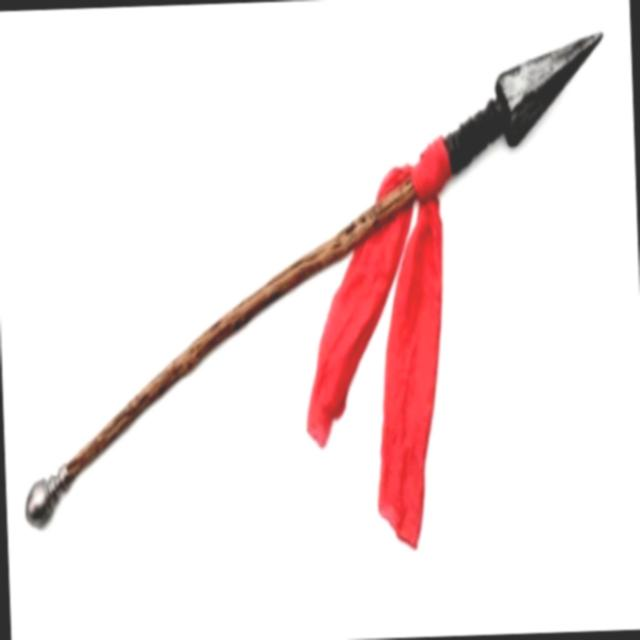spear: (1, 10, 628, 589)
